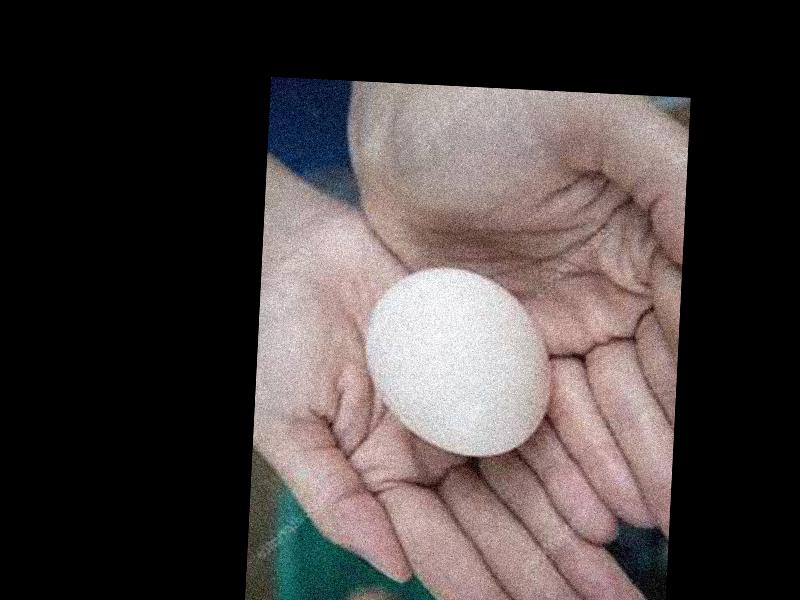Eggs: (365, 265, 551, 459)
